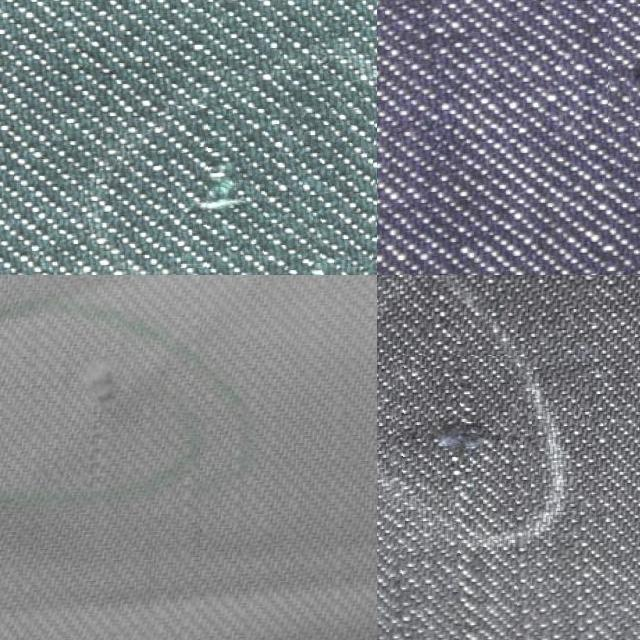stains: (387, 355, 529, 640), (155, 106, 371, 275), (28, 332, 142, 476), (607, 4, 640, 124)
